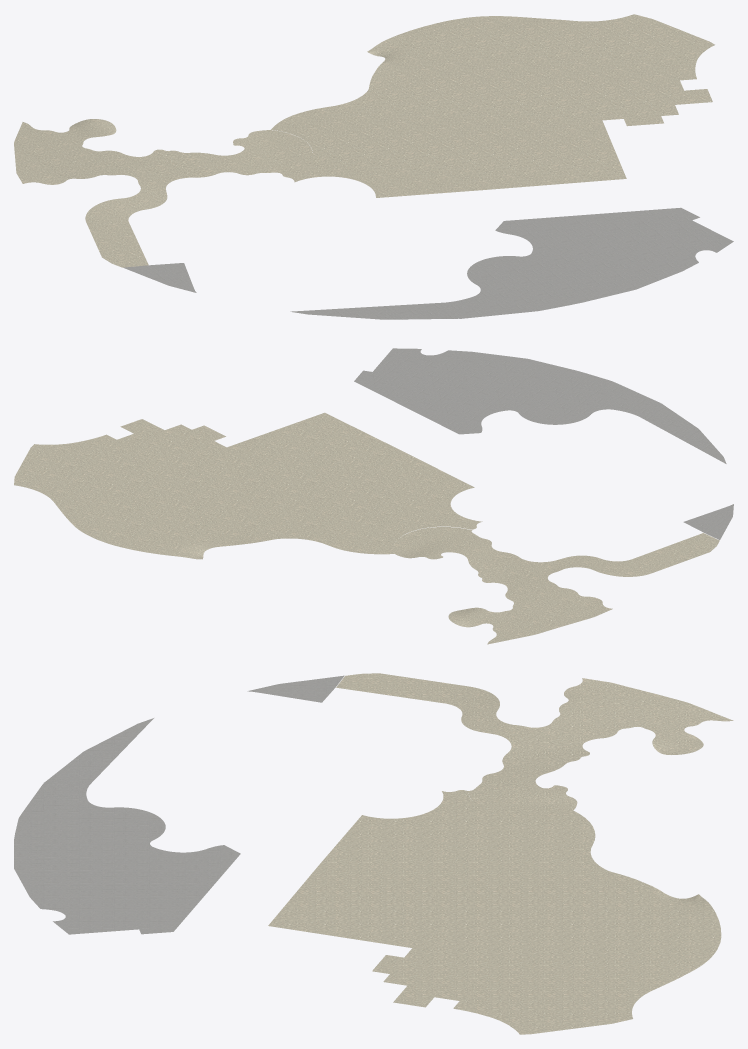
The model's file is entrancepath.gltf.
3 renders of one model, top to bottom at view 1: azimuth 30°, elevation 25°; view 2: azimuth 150°, elevation 25°; view 3: azimuth 270°, elevation 25°, orthographic. The views are drawn at different scales.
Parts seen in each view (by area): view 1: node17.004, node6.002, node9.002; view 2: node17.004, node6.002, node9.002; view 3: node17.004, node6.002, node9.002.
Boxes of the visible parts, x1,y1,x2,y2 form: node17.004: (271, 14, 714, 197); node6.002: (123, 207, 733, 319); node9.002: (14, 119, 312, 267); node17.004: (14, 412, 482, 559); node6.002: (354, 348, 733, 539); node9.002: (393, 527, 719, 644); node17.004: (268, 790, 721, 1034); node6.002: (14, 675, 344, 934); node9.002: (336, 673, 733, 817).
Size of the model in its own units: 511 by 4.37 by 430.
Materials: 2 (2 with a texture image).
